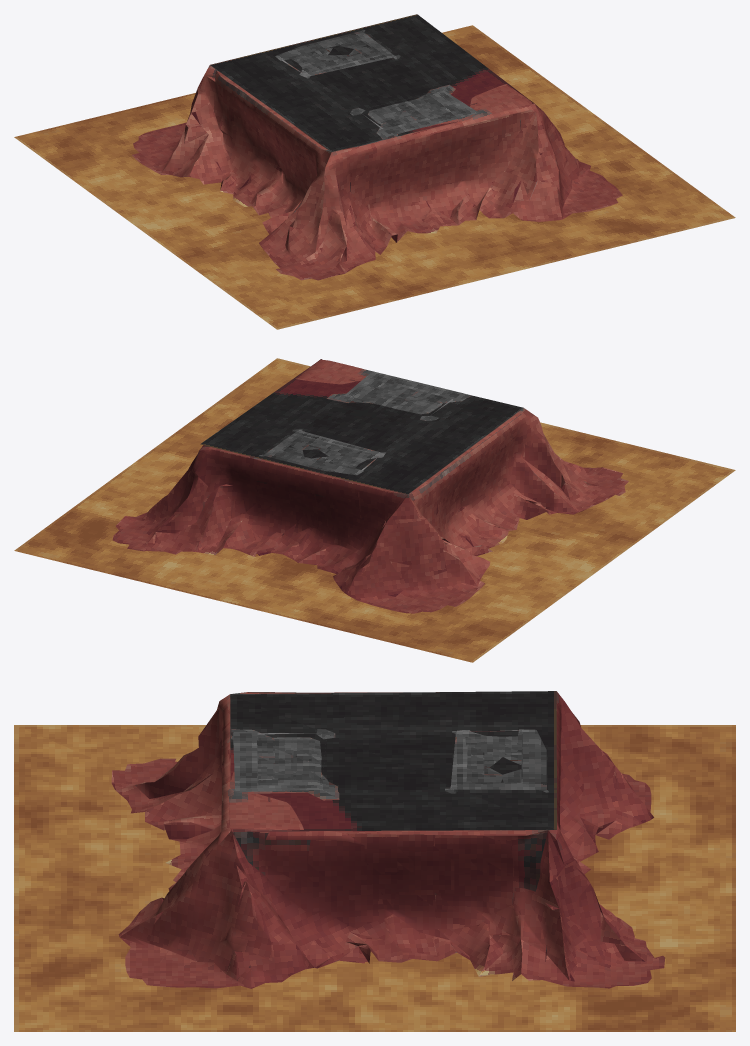
File: kotatsu2.glb
3 renders of one model, top to bottom at view 1: azimuth 30°, elevation 25°; view 2: azimuth 150°, elevation 25°; view 3: azimuth 270°, elevation 25°, orthographic. The views are drawn at different scales.
Visible parts, largest first — view 1: mesh; view 2: mesh; view 3: mesh.
Part boxes in pixels (bbox=[...]): mesh: bbox=[14, 14, 735, 329]; mesh: bbox=[14, 358, 735, 662]; mesh: bbox=[14, 691, 735, 1031].
Size of the model in its own units: 2.43 by 0.4499 by 2.41.
Materials: 1 (1 with a texture image).
